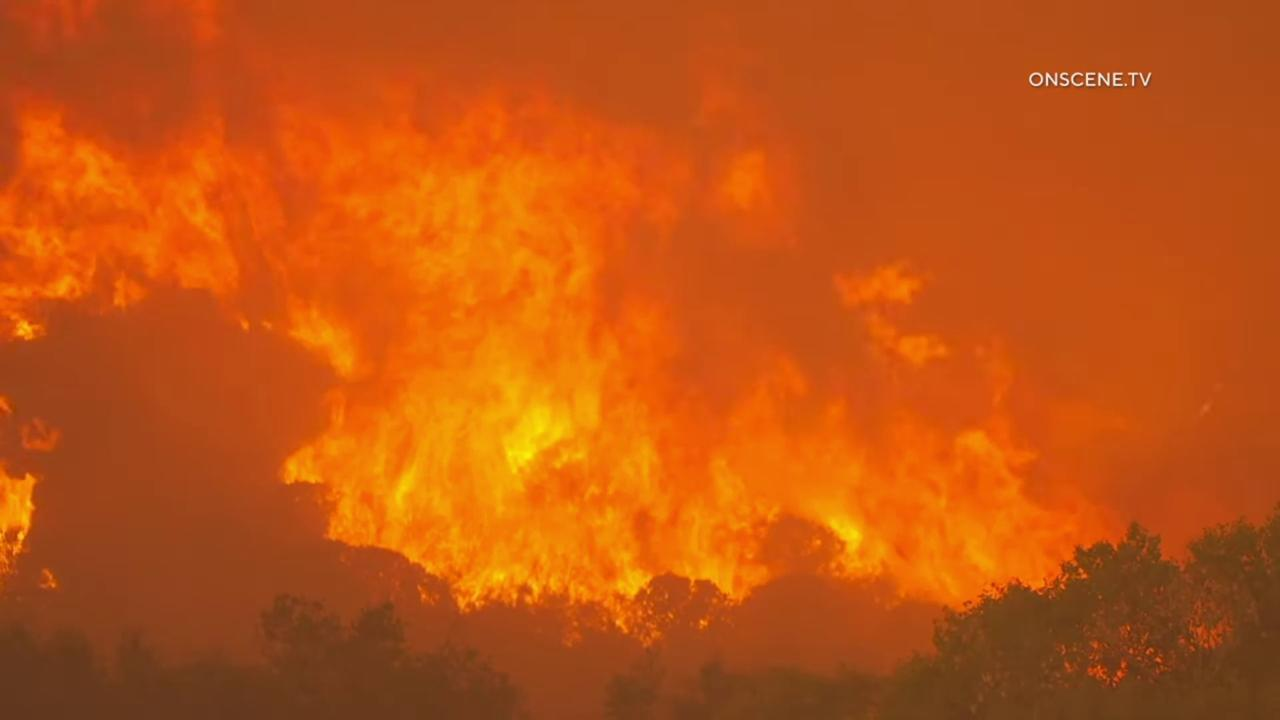fire: (0, 54, 1152, 649), (0, 0, 106, 48), (0, 459, 36, 598), (15, 419, 72, 460), (0, 388, 15, 420)
